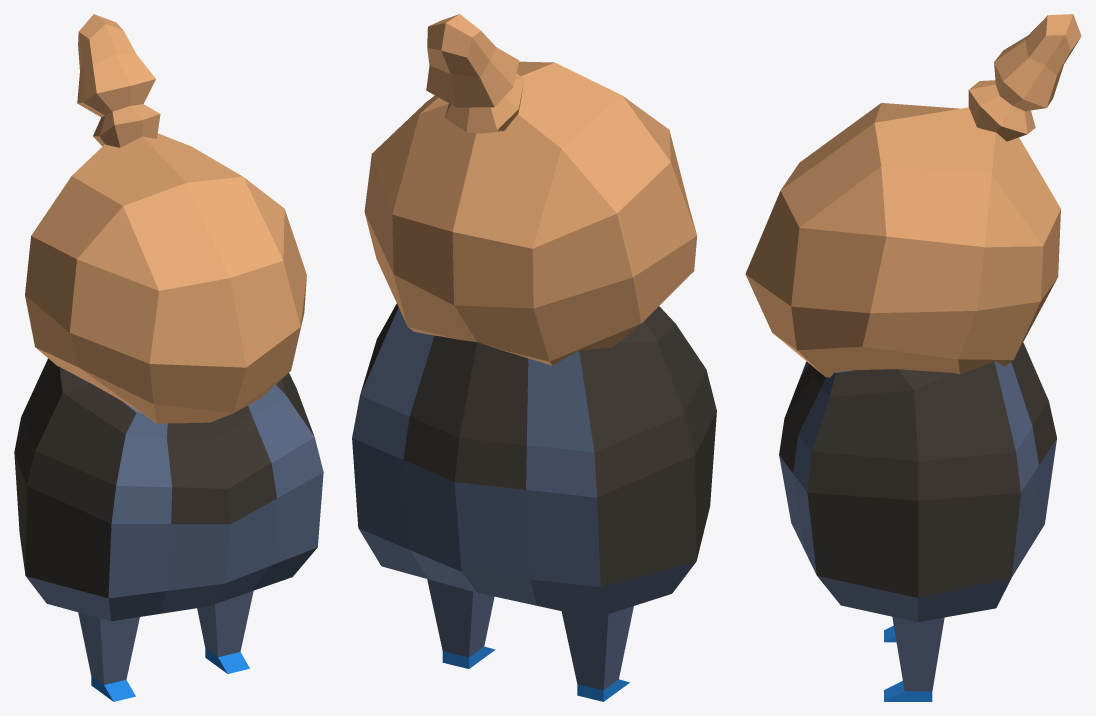
Rendered from rosvo.glb.
The picture shows the model from 3 angles, left to right: view 1: azimuth 30°, elevation 25°; view 2: azimuth 150°, elevation 25°; view 3: azimuth 270°, elevation 25°; orthographic projection. The views are drawn at different scales.
Parts seen in each view (by area): view 1: Cube; view 2: Cube; view 3: Cube.
Part boxes in pixels (x1,y1,x2,y2): Cube: (14,14,323,701); Cube: (352,14,716,701); Cube: (745,14,1081,701).
Size of the model in its own units: 1.08 by 2.23 by 1.04.
